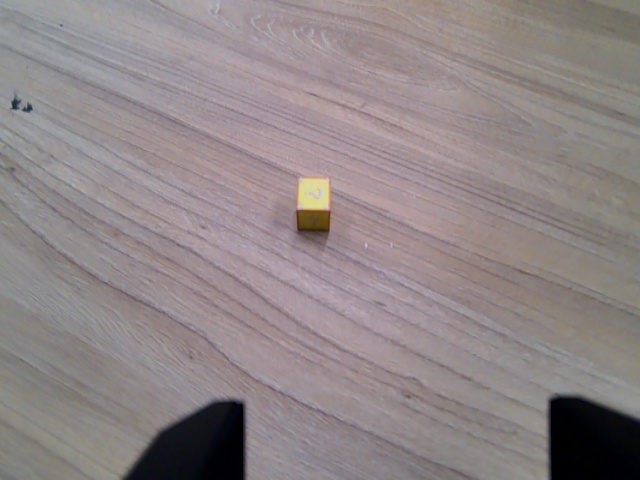lucky: (290, 174, 337, 238)
